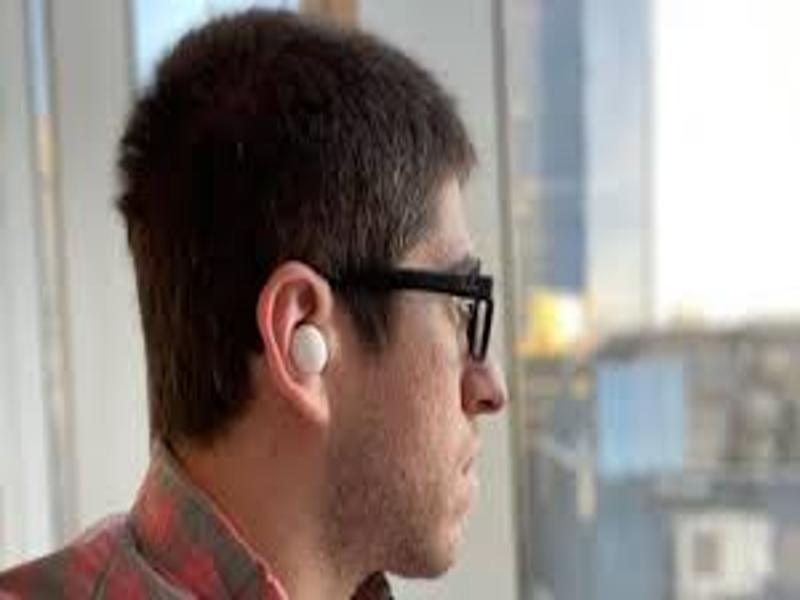headphone: (287, 318, 334, 376)
